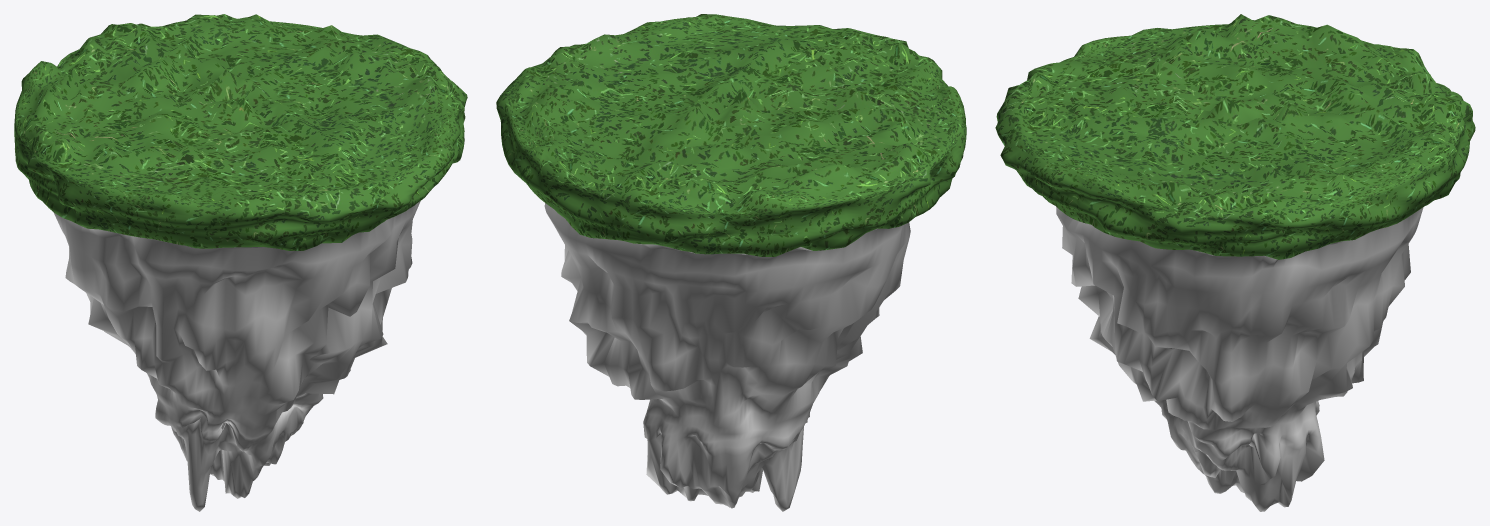
The model's file is Ile volante.fbx.
3 renders of one model, left to right at view 1: azimuth 30°, elevation 25°; view 2: azimuth 150°, elevation 25°; view 3: azimuth 270°, elevation 25°, orthographic.
Visible parts, largest first — view 1: Box001; view 2: Box001; view 3: Box001.
Boxes of the visible parts, x1,y1,x2,y2 form: Box001: (14, 14, 467, 511); Box001: (496, 14, 966, 511); Box001: (995, 14, 1475, 511).
Bounding box in the file's own units: 56.45 × 54.1 × 57.58.
